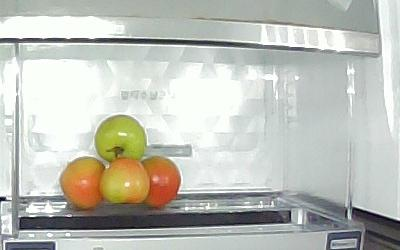tomato: (58, 154, 105, 211), (95, 114, 146, 166), (135, 157, 182, 208), (99, 158, 149, 205)
